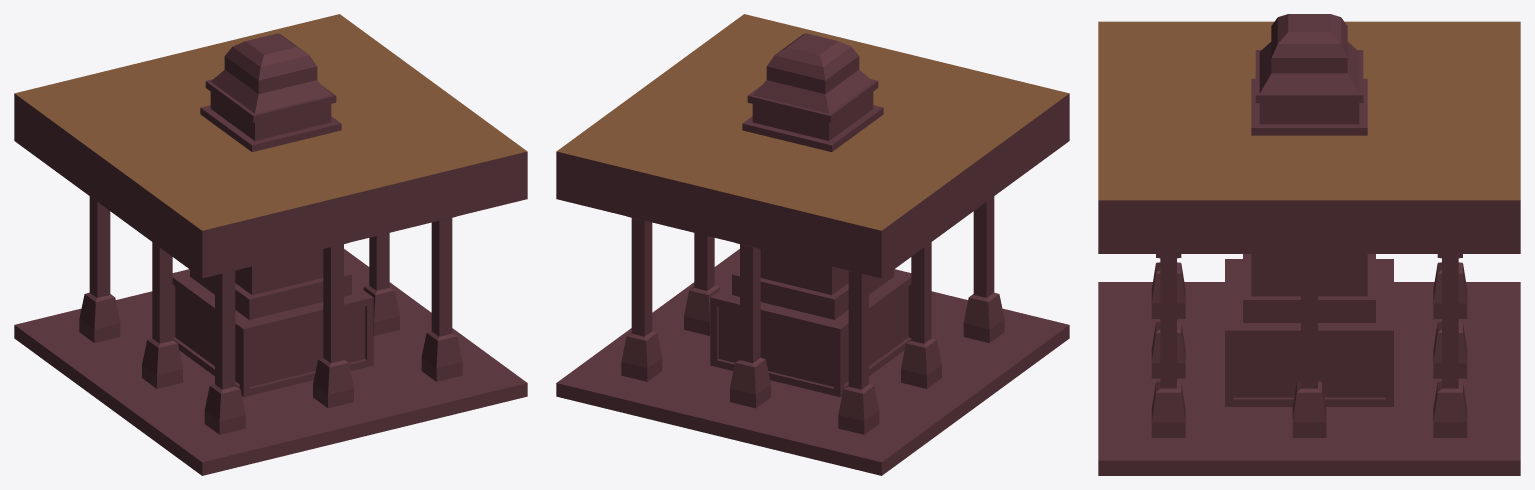
File: hindu-pillars-middle-big.fbx
3 renders of one model, left to right at view 1: azimuth 30°, elevation 25°; view 2: azimuth 150°, elevation 25°; view 3: azimuth 270°, elevation 25°, orthographic. The views are drawn at different scales.
Visible parts, largest first — view 1: hindu-pillars-middle-big; view 2: hindu-pillars-middle-big; view 3: hindu-pillars-middle-big.
Part boxes in pixels (<box>): hindu-pillars-middle-big: <box>14,14,527,475</box>; hindu-pillars-middle-big: <box>556,14,1069,475</box>; hindu-pillars-middle-big: <box>1098,14,1520,475</box>.
Size of the model in its own units: 5 by 4.75 by 5.
